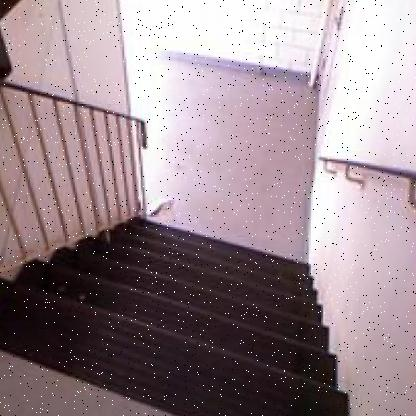stair_down: (0, 235, 323, 402)
